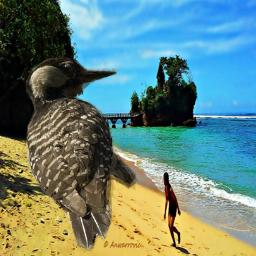Woodpecker: (26, 55, 141, 254)
